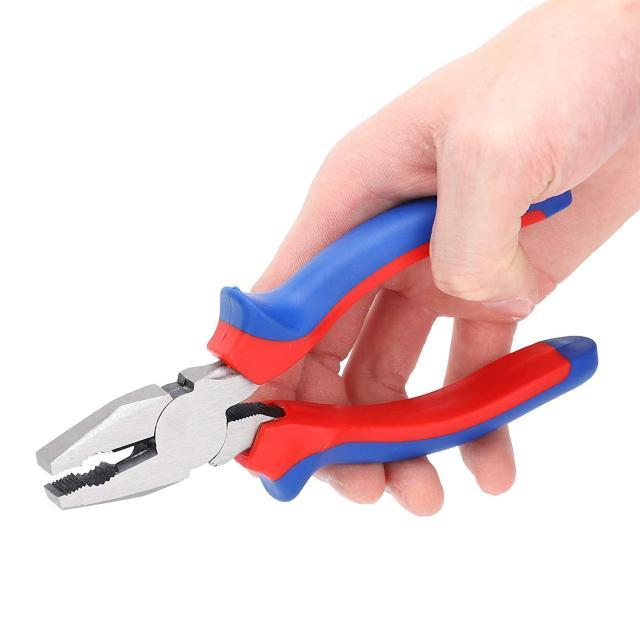pliers: (33, 173, 602, 520)
